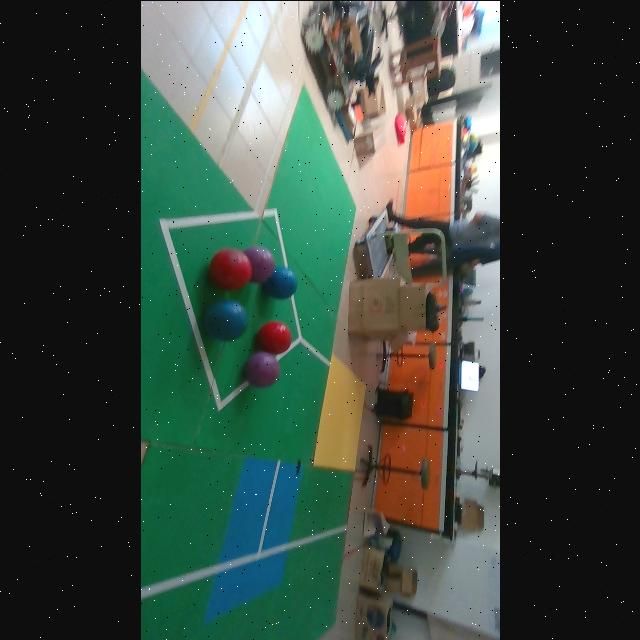B: (204, 300, 246, 340), (263, 266, 298, 298)
P: (244, 352, 280, 387), (244, 246, 276, 282)
R: (210, 248, 251, 289), (257, 320, 291, 354)
